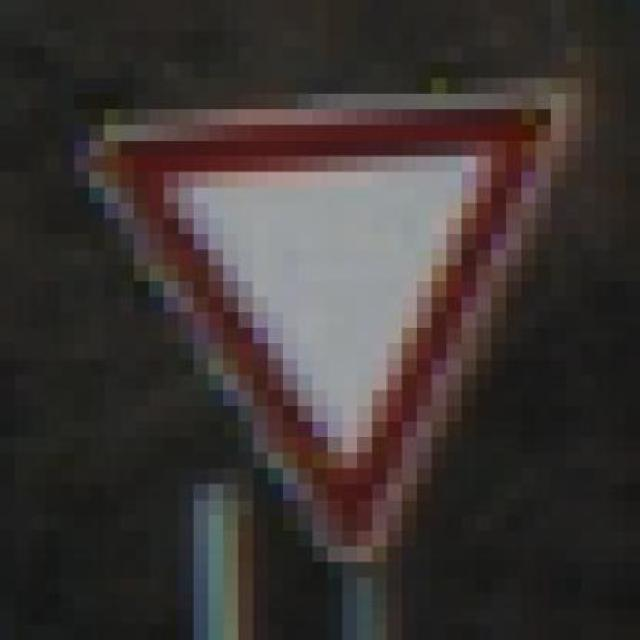Give Way: (59, 58, 610, 590)
